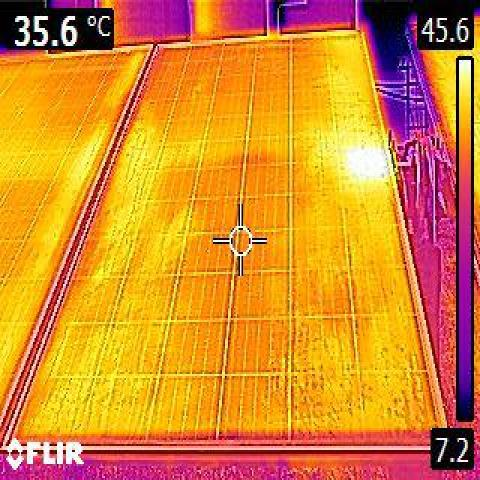fault: (344, 148, 386, 184)
